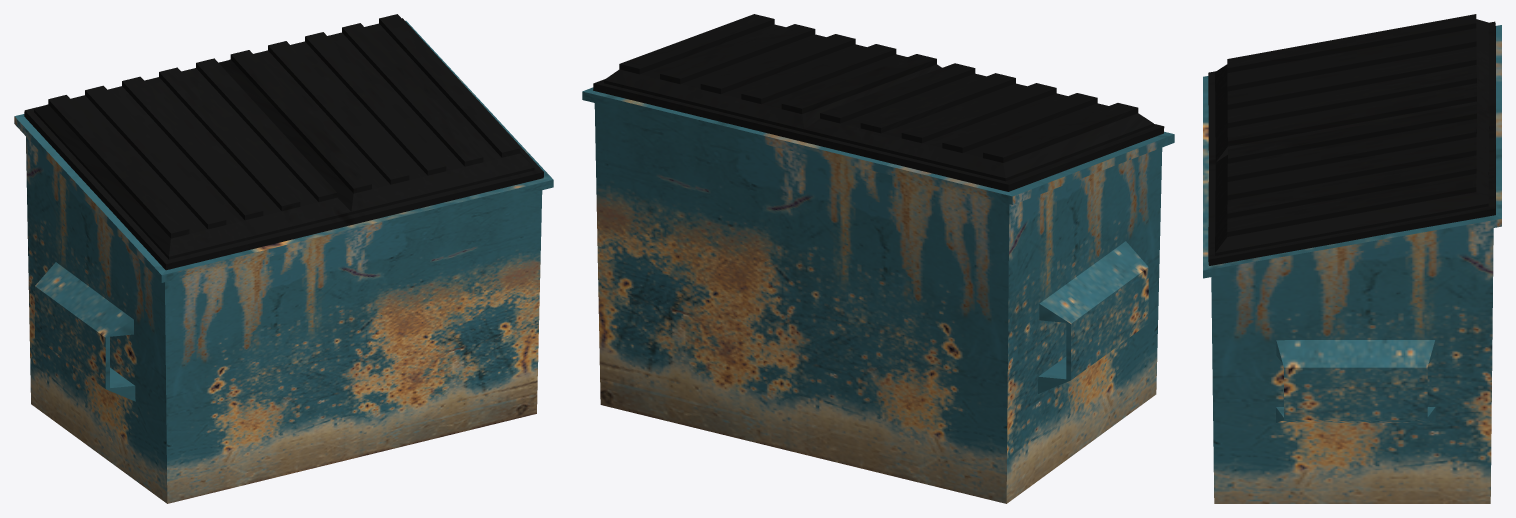
Rendered from GarbageBin_Green.fbx.
3 views of the same model, side by side, from view 1: azimuth 30°, elevation 25°; view 2: azimuth 150°, elevation 25°; view 3: azimuth 270°, elevation 25° (orthographic). The views are drawn at different scales.
Visible parts, largest first — view 1: GarbageBin_Green; view 2: GarbageBin_Green; view 3: GarbageBin_Green.
Boxes of the visible parts, bbox=[...] form: GarbageBin_Green: bbox=[14, 14, 553, 503]; GarbageBin_Green: bbox=[582, 14, 1174, 503]; GarbageBin_Green: bbox=[1203, 14, 1501, 503].
Bounding box in the file's own units: 7.78 × 5.39 × 4.68.
